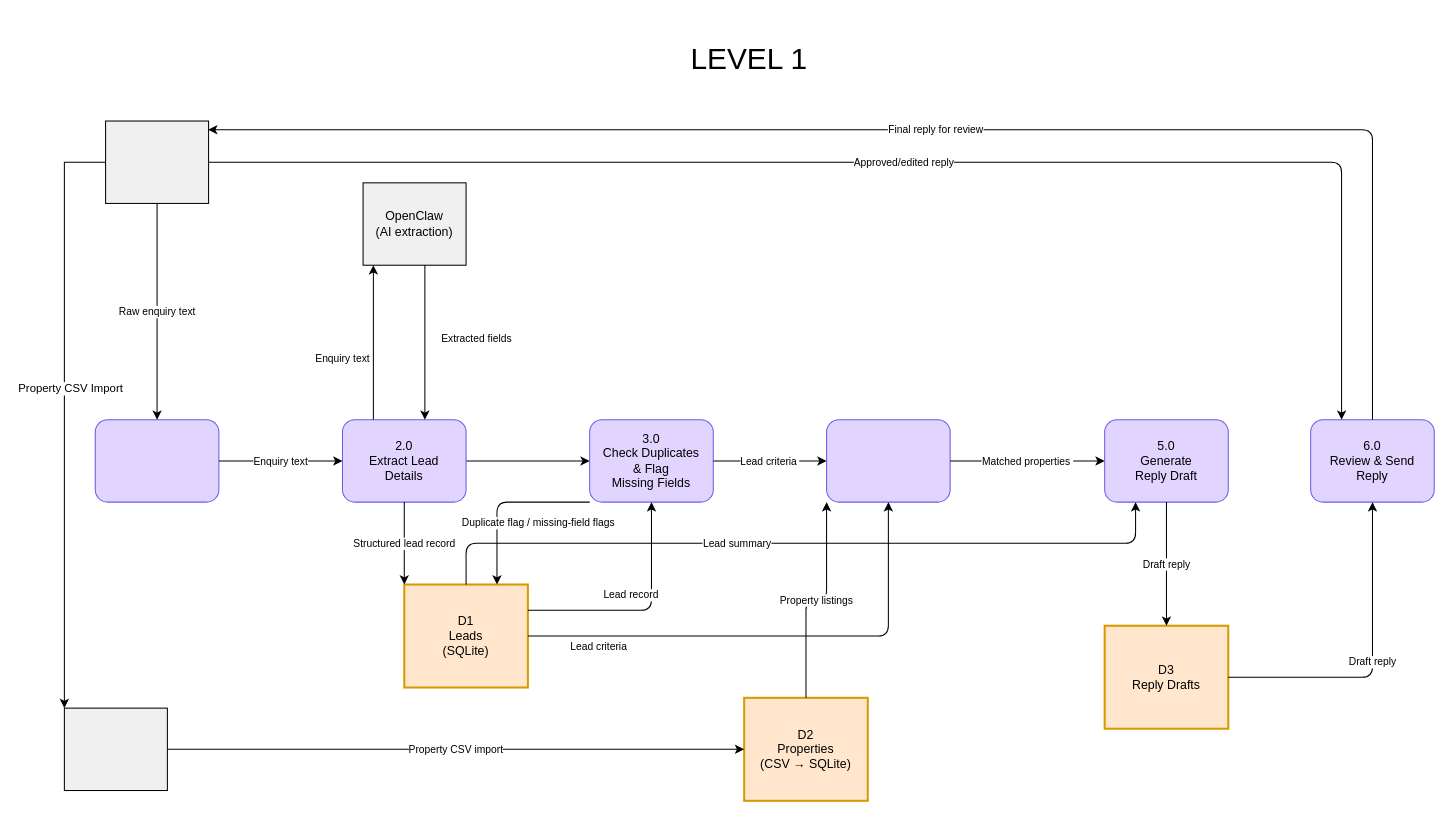
Image size: 1452x819. Some labels were removed from this diagram. The shapes that lost their labels are listed below. From the top down, each one's centre as x and y in pixels, then its label:
(157,161): Agent (Staff Member)
(156,460): 1.0 Manage Lead Intake
(888,460): 4.0 Match Properties
(115,749): Property Data Source (CSV file)
